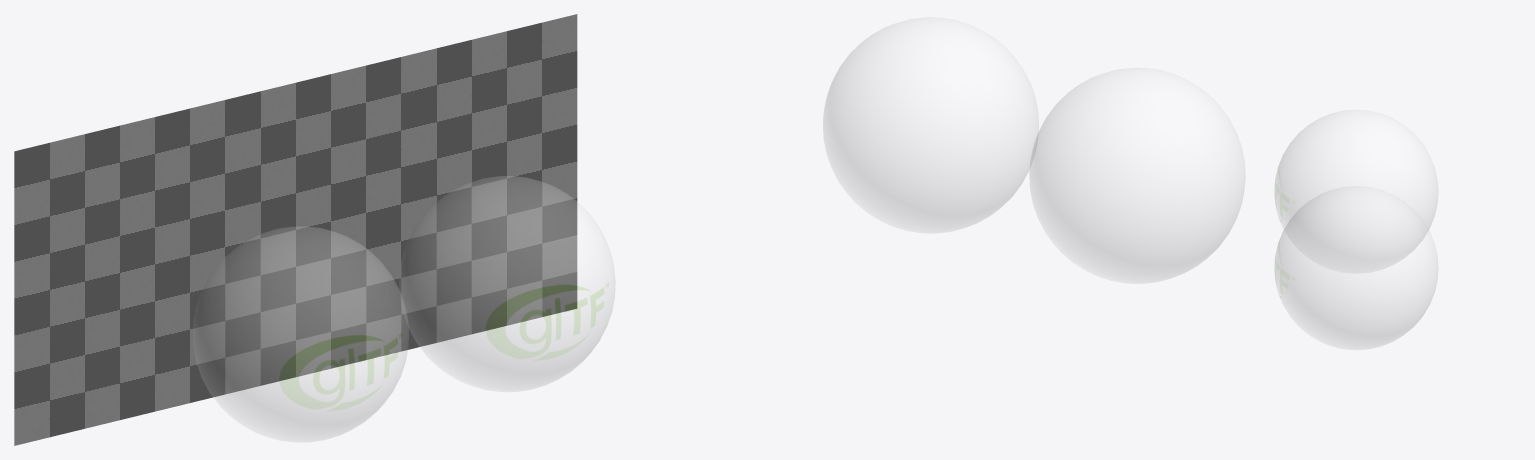
Rendered from CompareIor.glb.
3 views of the same model, side by side, from view 1: azimuth 30°, elevation 25°; view 2: azimuth 150°, elevation 25°; view 3: azimuth 270°, elevation 25° (orthographic). The views are drawn at different scales.
Visible parts, largest first — view 1: Checker, GeoSphere001, GeoSphere002; view 2: GeoSphere002, GeoSphere001; view 3: GeoSphere002, GeoSphere001.
Part boxes in pixels (<box>): Checker: <box>14,14,577,445</box>; GeoSphere001: <box>193,226,408,442</box>; GeoSphere002: <box>399,176,615,391</box>; GeoSphere002: <box>823,17,1038,233</box>; GeoSphere001: <box>1029,68,1245,283</box>; GeoSphere002: <box>1274,186,1438,349</box>; GeoSphere001: <box>1274,110,1438,273</box>.
Size of the model in its own units: 3 by 1.5 by 1.5.
3 materials, 3 textured.
